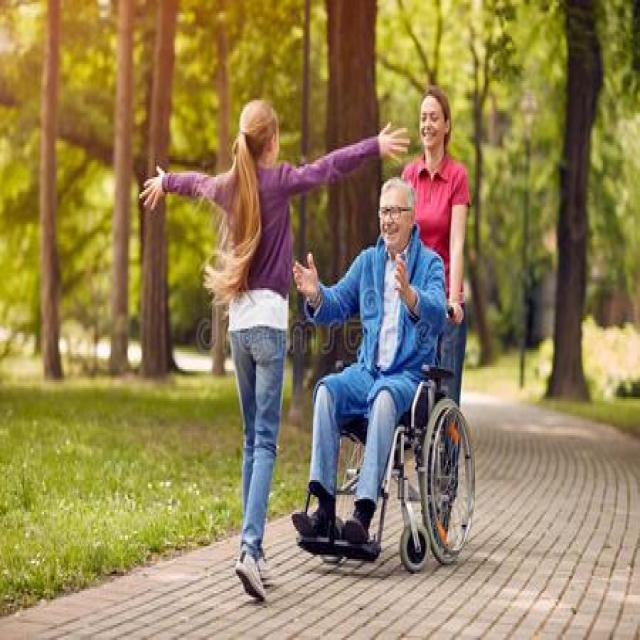wheelchairs: (286, 296, 481, 577)
